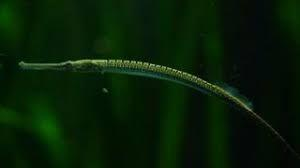Long-Snouted Pipefish: (18, 50, 300, 167)
